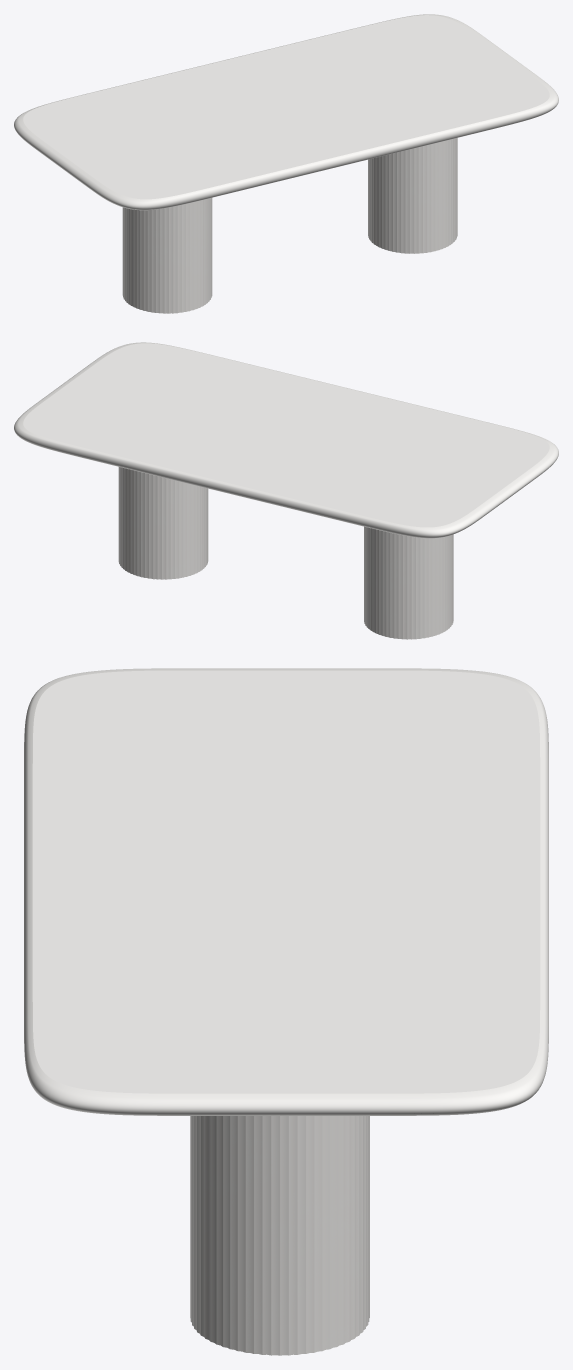
File: purewhite_softrecta_round_ripplesecond.glb
3 views of the same model, one above another, from view 1: azimuth 30°, elevation 25°; view 2: azimuth 150°, elevation 25°; view 3: azimuth 270°, elevation 25° (orthographic). The views are drawn at different scales.
Visible parts, largest first — view 1: round_softrecta, ripplesecond; view 2: round_softrecta, ripplesecond; view 3: round_softrecta, ripplesecond.
Part boxes in pixels (bbox=[...]): round_softrecta: bbox=[14, 14, 558, 210]; ripplesecond: bbox=[122, 138, 457, 313]; round_softrecta: bbox=[14, 342, 558, 538]; ripplesecond: bbox=[118, 467, 453, 639]; round_softrecta: bbox=[24, 668, 548, 1115]; ripplesecond: bbox=[190, 1116, 369, 1355].
Size of the model in its own units: 7.5 by 2.51 by 3.8.
1 material, 1 textured.
